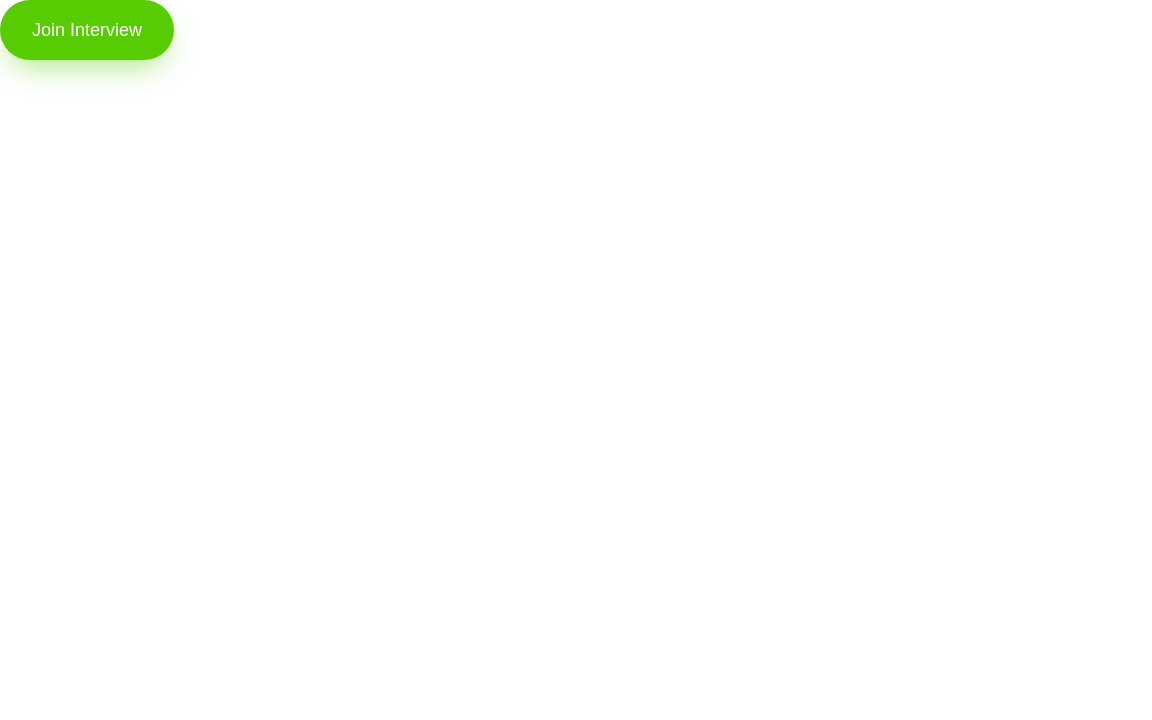
Test: JoinInterview › cancels the start countdown back to the lobby without leaving
The image size is (1152, 720).
Click the button "Join Interview" at (87, 30), box [0, 0, 174, 60]
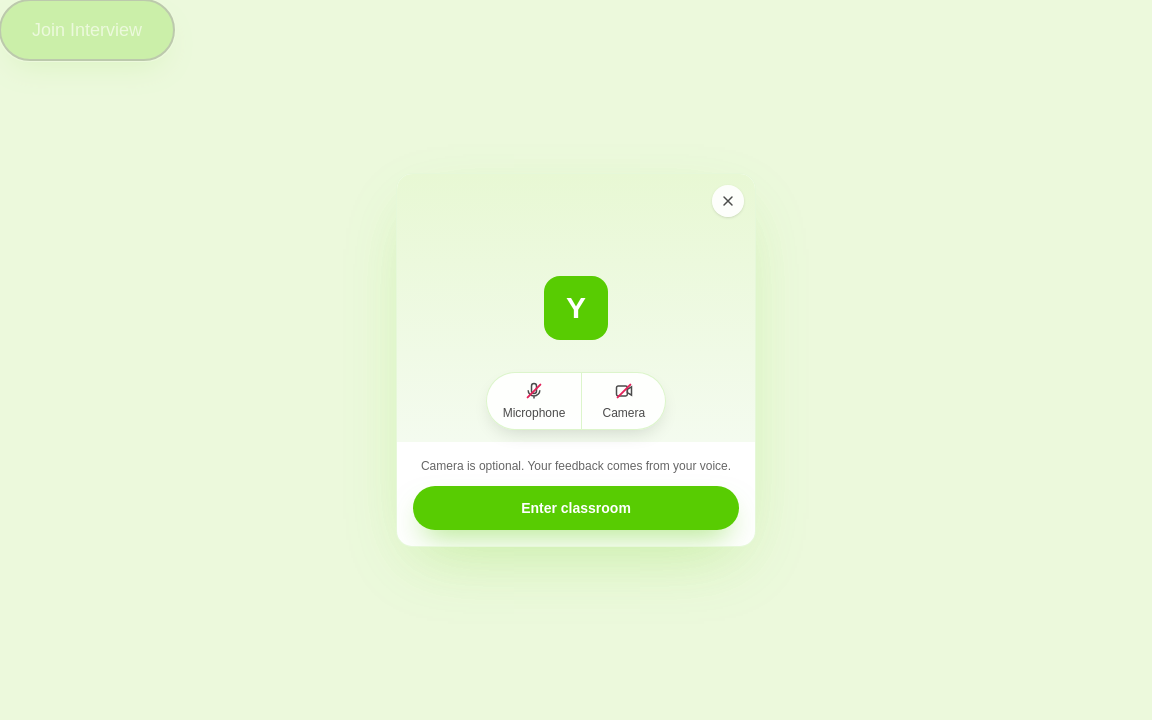
Click the button "Enter classroom" at (576, 508), box [413, 486, 739, 530]
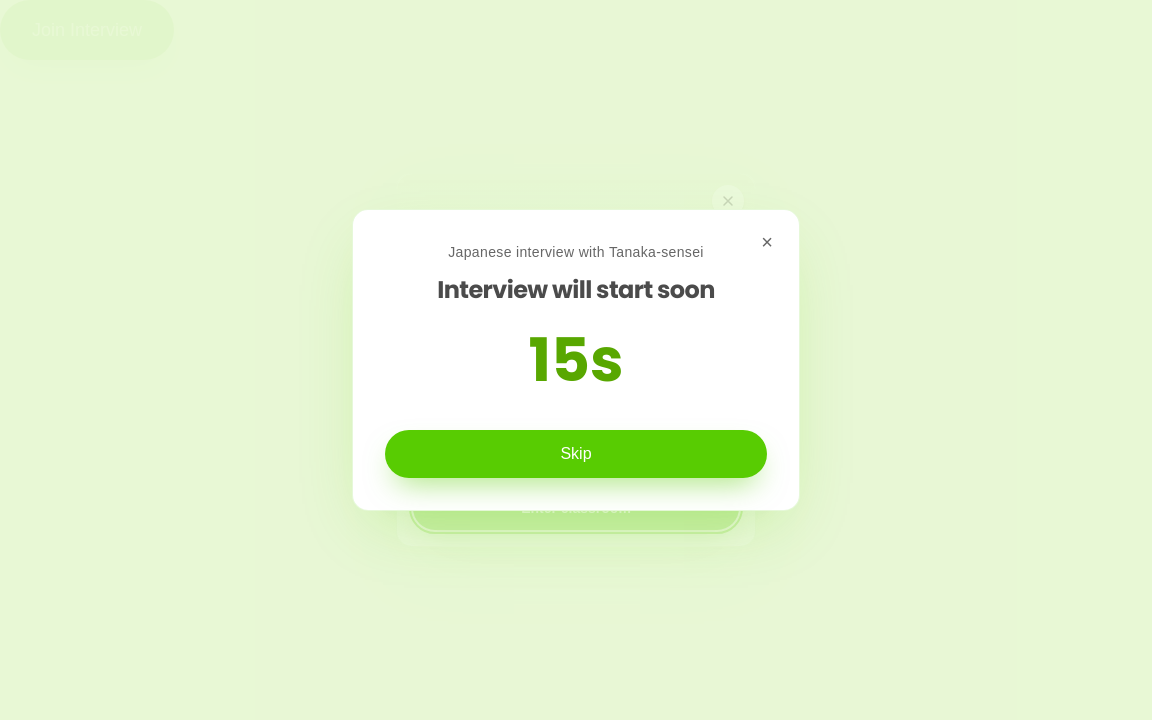
Expected: the dialog "Interview will start soon" is shown, [352, 209, 800, 511]
Click the button named "Cancel" at (767, 242), box [751, 226, 783, 258]
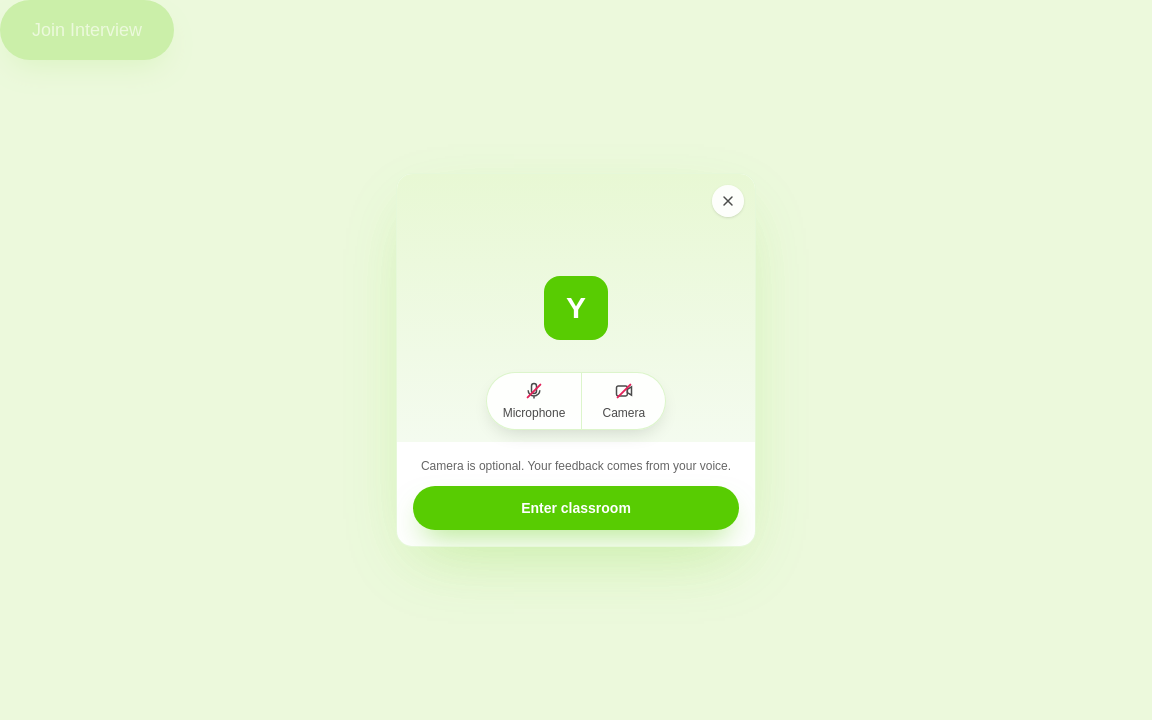
Expected: the dialog named "ready to join" is shown
Expected: the heading "Interview will start soon" is gone
